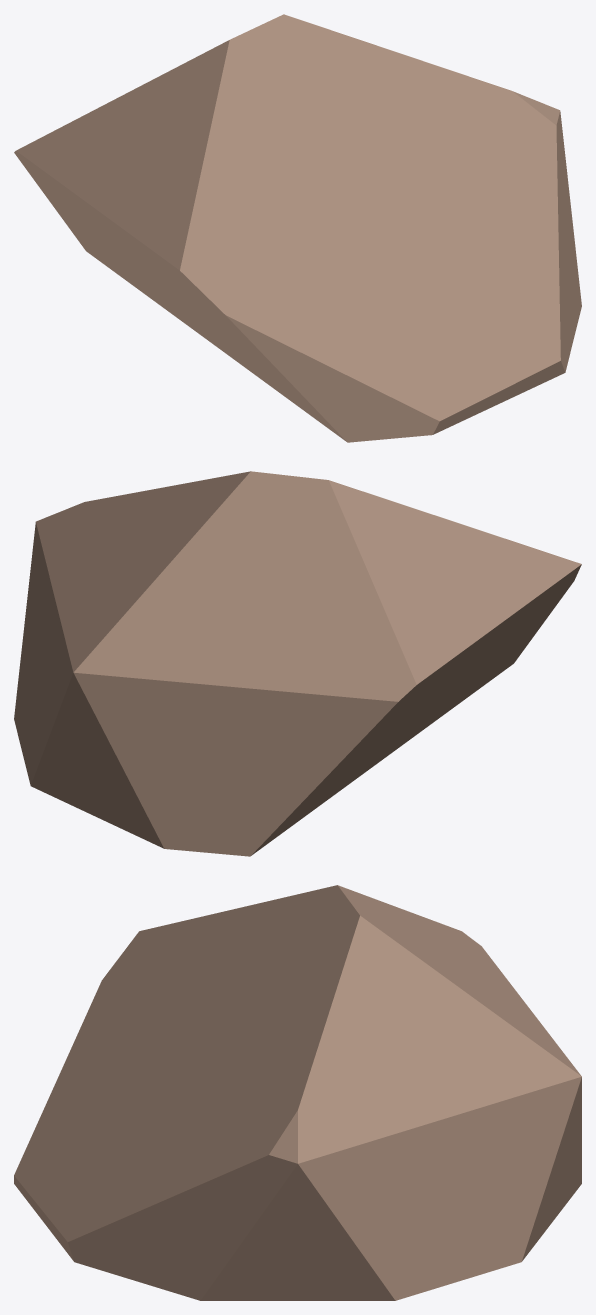
The model's file is rock_03.fbx.
The picture shows the model from 3 angles, top to bottom: view 1: azimuth 30°, elevation 25°; view 2: azimuth 150°, elevation 25°; view 3: azimuth 270°, elevation 25°; orthographic projection. The views are drawn at different scales.
Visible parts, largest first — view 1: rock_03; view 2: rock_03; view 3: rock_03.
Boxes of the visible parts, x1,y1,x2,y2 form: rock_03: (14,14,581,442); rock_03: (14,471,581,856); rock_03: (14,885,581,1300).
Size of the model in its own units: 52.18 by 30.88 by 56.54.
1 material, 1 textured.
